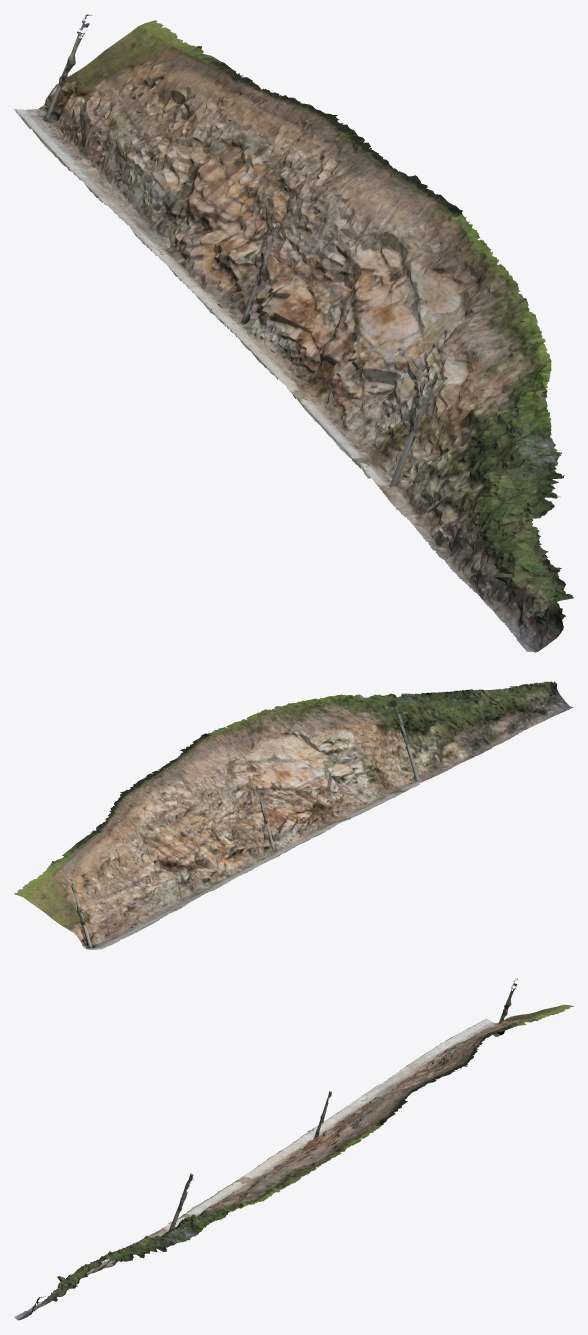
3 renders of one model, top to bottom at view 1: azimuth 30°, elevation 25°; view 2: azimuth 150°, elevation 25°; view 3: azimuth 330°, elevation 25°, orthographic. The views are drawn at different scales.
Size of the model in its own units: 17.01 by 8.46 by 69.56.
1 material, 1 textured.
